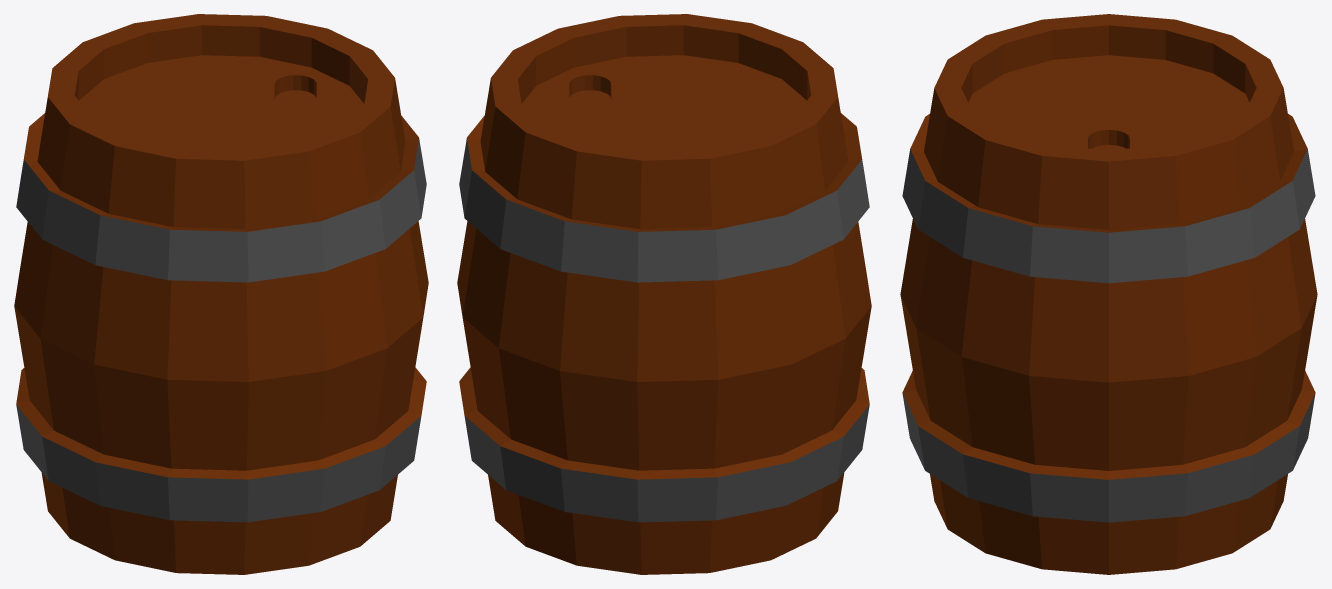
File: BAELLLLL.fbx
The picture shows the model from 3 angles, left to right: view 1: azimuth 30°, elevation 25°; view 2: azimuth 150°, elevation 25°; view 3: azimuth 270°, elevation 25°; orthographic projection.
Visible parts, largest first — view 1: Cylinder; view 2: Cylinder; view 3: Cylinder.
Boxes of the visible parts, x1,y1,x2,y2 form: Cylinder: (14,14,428,574); Cylinder: (457,14,871,574); Cylinder: (900,14,1317,574).
Size of the model in its own units: 239 by 261 by 239.
